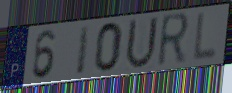0: (92, 21, 127, 75)
6: (30, 28, 58, 82)
I: (74, 23, 92, 78)
L: (190, 10, 218, 64)
R: (155, 10, 192, 70)
U: (123, 15, 161, 72)
